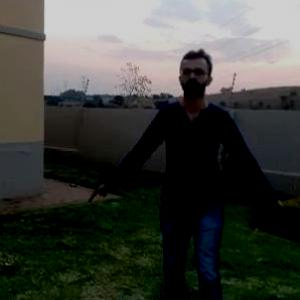land: (110, 55, 283, 281)
